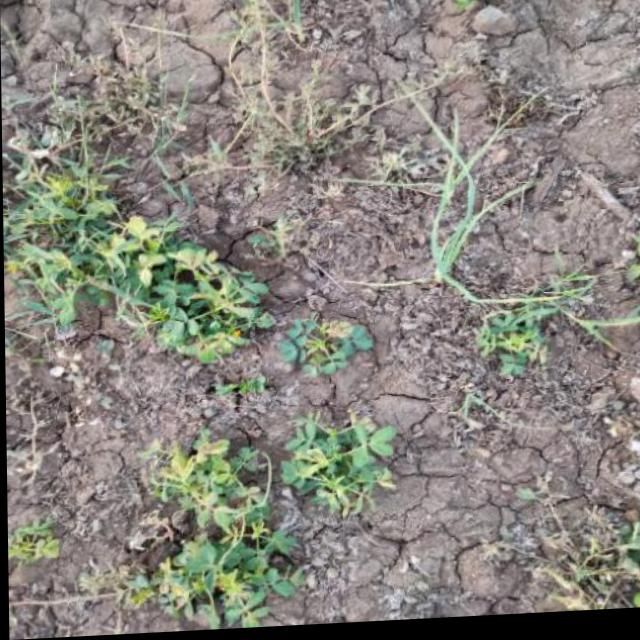weed: (341, 78, 579, 375), (58, 154, 290, 388), (70, 432, 291, 637), (277, 412, 398, 527)
